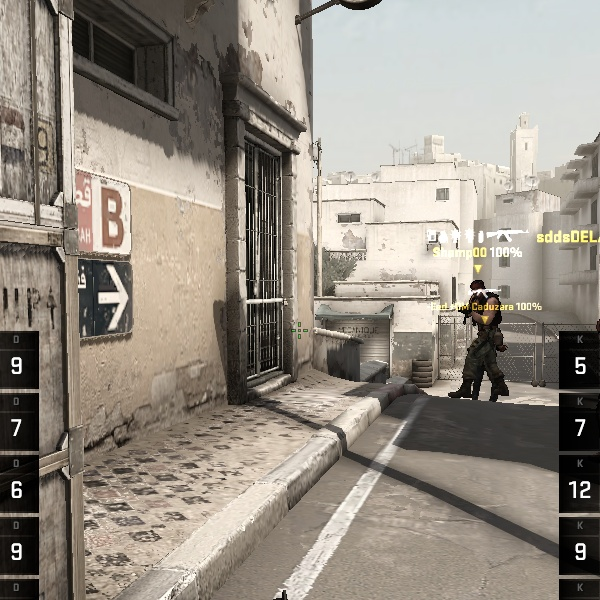t_body: (447, 277, 520, 407)
